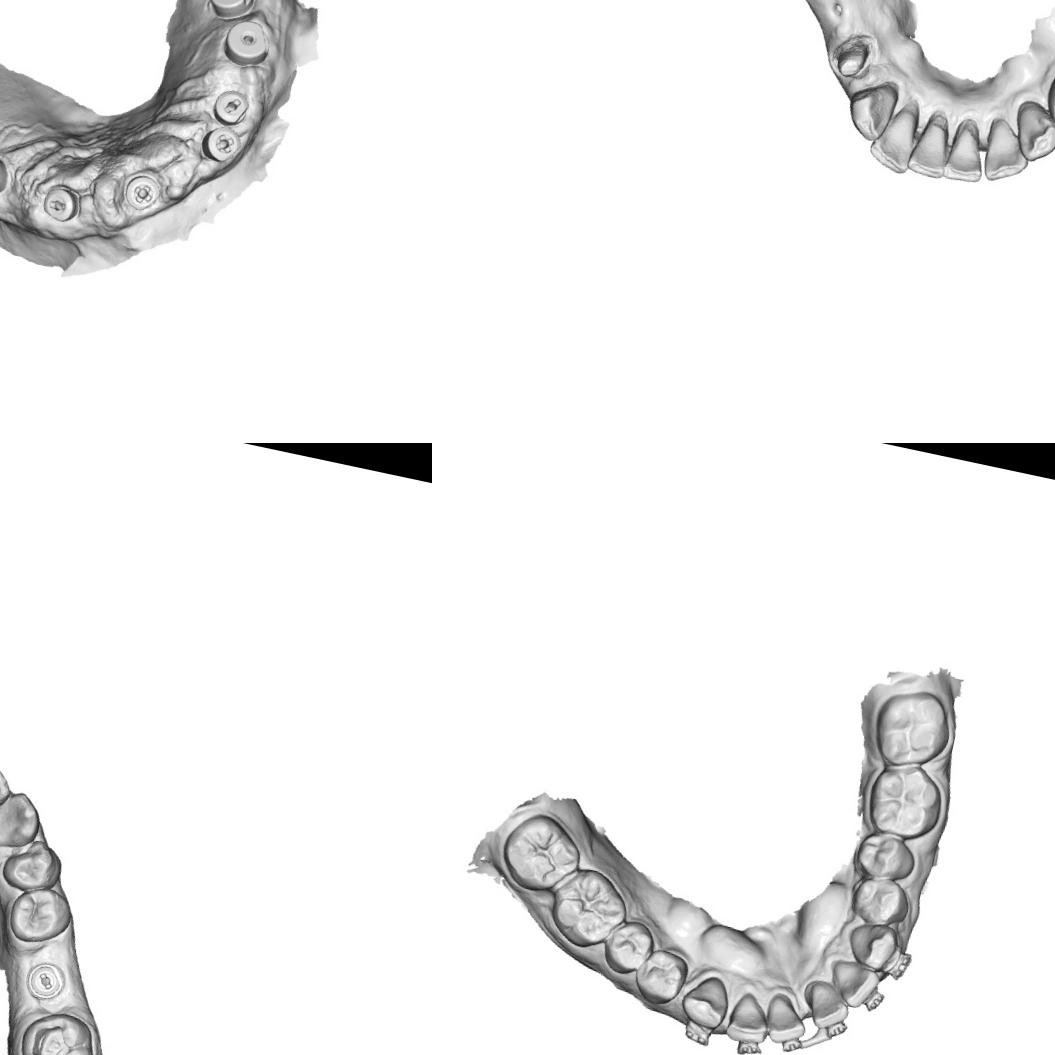canine: (842, 76, 902, 146), (841, 914, 902, 974), (1007, 97, 1055, 167), (0, 785, 46, 857), (678, 970, 732, 1031)
crown: (828, 28, 880, 82)
implant: (218, 15, 276, 72), (201, 0, 260, 26), (0, 151, 13, 198)
implant_minus: (21, 957, 70, 1006), (38, 180, 86, 226), (209, 86, 253, 128)
implant_plus: (195, 120, 246, 169), (120, 168, 165, 214)
incisor: (864, 92, 924, 178), (978, 113, 1038, 189), (904, 105, 958, 181), (940, 115, 993, 188), (823, 956, 883, 1013), (798, 975, 854, 1034), (723, 991, 776, 1049), (759, 991, 811, 1050), (0, 754, 17, 825)
inlay: (22, 1017, 84, 1055)
molar: (489, 807, 588, 902), (541, 861, 635, 956), (867, 682, 958, 774), (860, 756, 948, 846)
premolar: (3, 880, 78, 951), (628, 943, 694, 1012), (0, 832, 67, 898), (850, 824, 921, 886), (596, 912, 660, 980), (846, 871, 913, 931), (1040, 65, 1055, 136)
